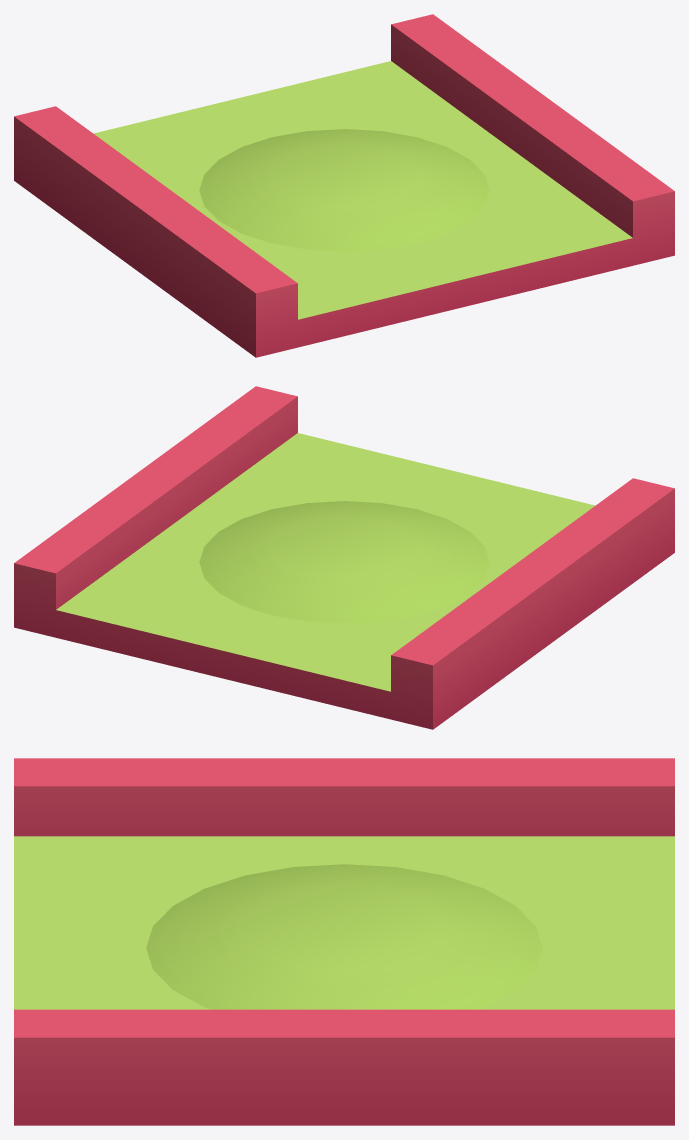
File: bump-walls.fbx
The picture shows the model from 3 angles, top to bottom: view 1: azimuth 30°, elevation 25°; view 2: azimuth 150°, elevation 25°; view 3: azimuth 270°, elevation 25°; orthographic projection. The views are drawn at different scales.
Visible parts, largest first — view 1: bump_walls; view 2: bump_walls; view 3: bump_walls.
Boxes of the visible parts, <box> form: bump_walls: <box>14,14,674,357</box>; bump_walls: <box>14,386,674,729</box>; bump_walls: <box>14,758,674,1125</box>.
Bounding box in the file's own units: 99.99 × 14.67 × 99.99.
1 material, 1 textured.
